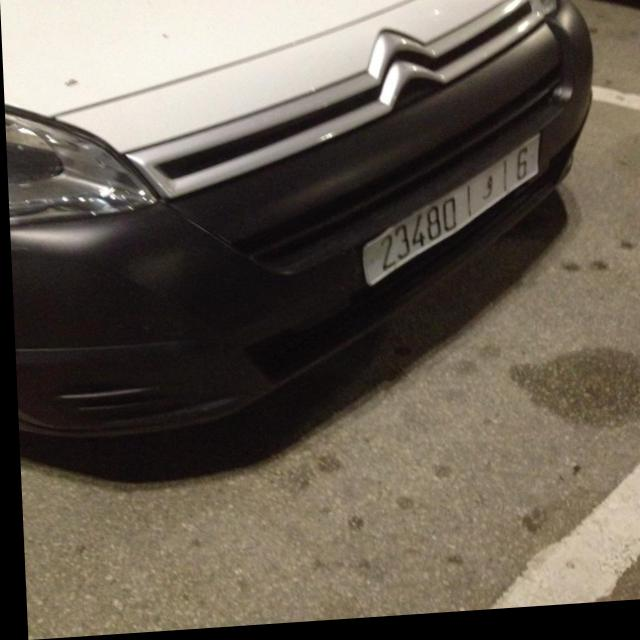License-Plate: (360, 142, 537, 290)
